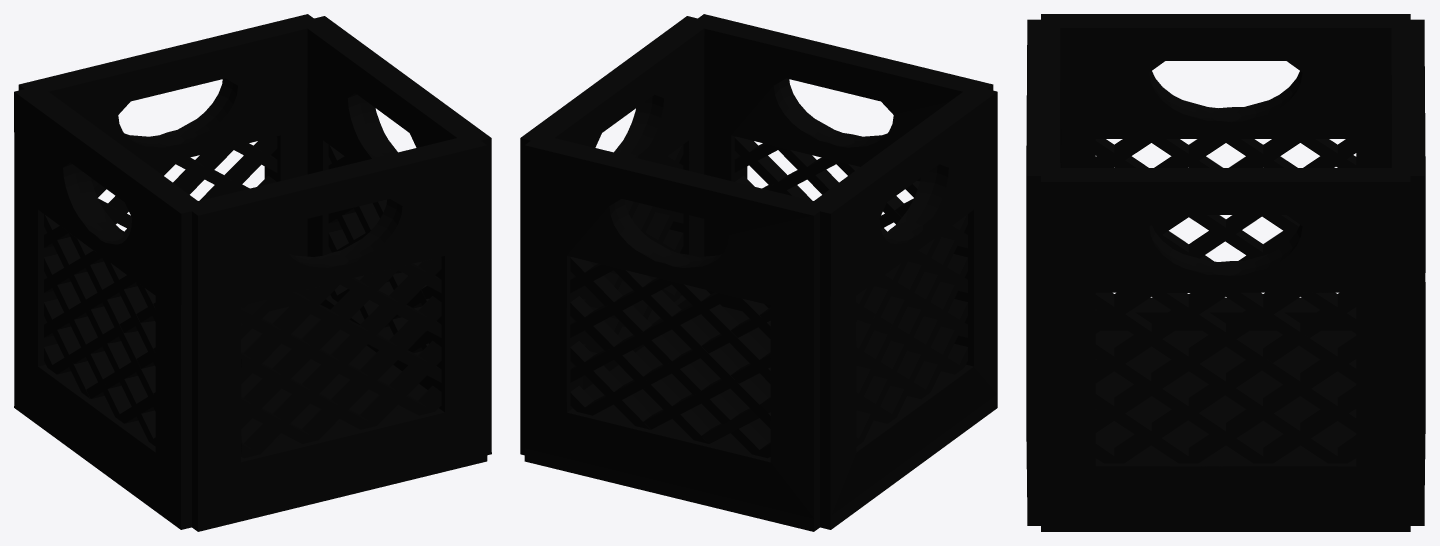
Rendered from Milk_Crate.glb.
3 renders of one model, left to right at view 1: azimuth 30°, elevation 25°; view 2: azimuth 150°, elevation 25°; view 3: azimuth 270°, elevation 25°, orthographic. The views are drawn at different scales.
Visible parts, largest first — view 1: MilkCrate-Col; view 2: MilkCrate-Col; view 3: MilkCrate-Col.
Boxes of the visible parts, x1=… form: MilkCrate-Col: x1=14, y1=14, x2=491, y2=531; MilkCrate-Col: x1=520, y1=14, x2=997, y2=531; MilkCrate-Col: x1=1026, y1=14, x2=1425, y2=531.
Bounding box in the file's own units: 8.78 × 8.49 × 8.78.
8 materials, 8 textured.
